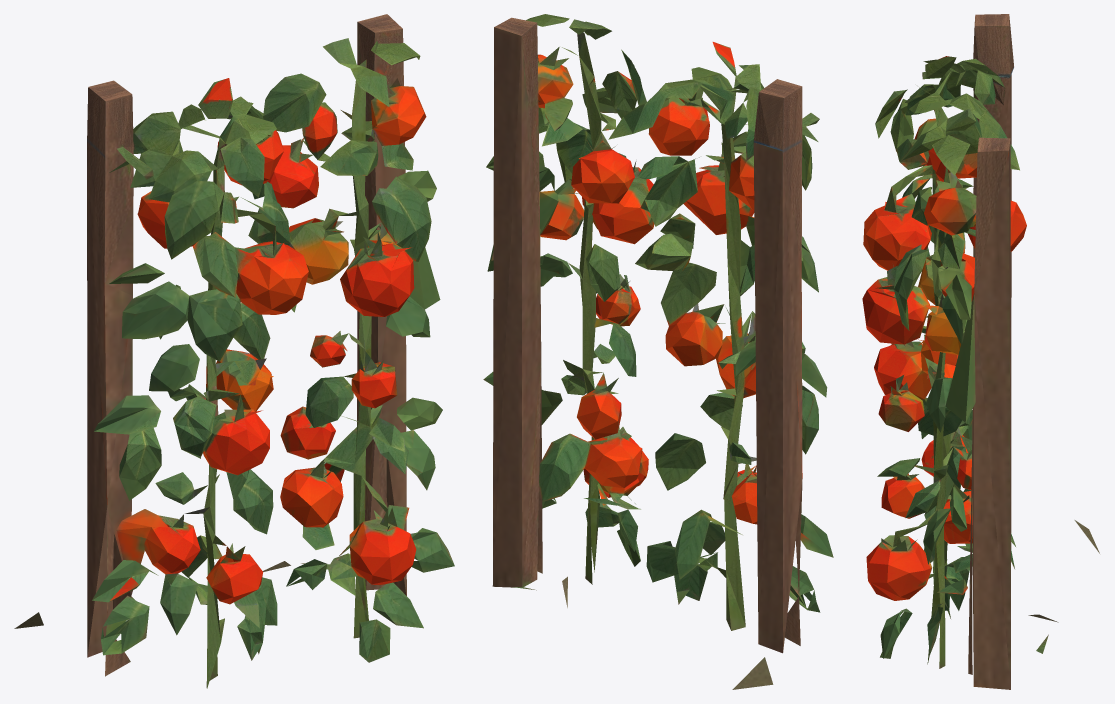
The model's file is tomato_plants.glb.
The picture shows the model from 3 angles, left to right: view 1: azimuth 30°, elevation 25°; view 2: azimuth 150°, elevation 25°; view 3: azimuth 270°, elevation 25°; orthographic projection. The views are drawn at different scales.
Visible parts, largest first — view 1: GLTF; view 2: GLTF; view 3: GLTF.
Part boxes in pixels (x1,y1,x2,y2): GLTF: (14,14,454,688); GLTF: (483,14,833,689); GLTF: (862,14,1099,689).
Bounding box in the file's own units: 1.02 × 1.6 × 0.6145.
Materials: 1 (1 with a texture image).
